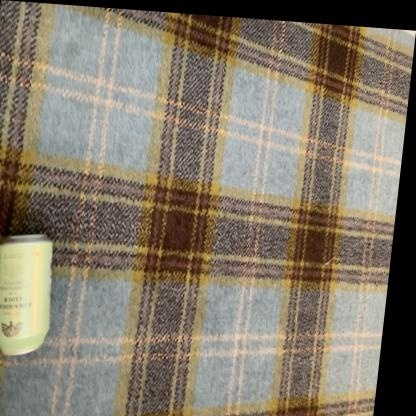trash: (0, 234, 52, 354)
